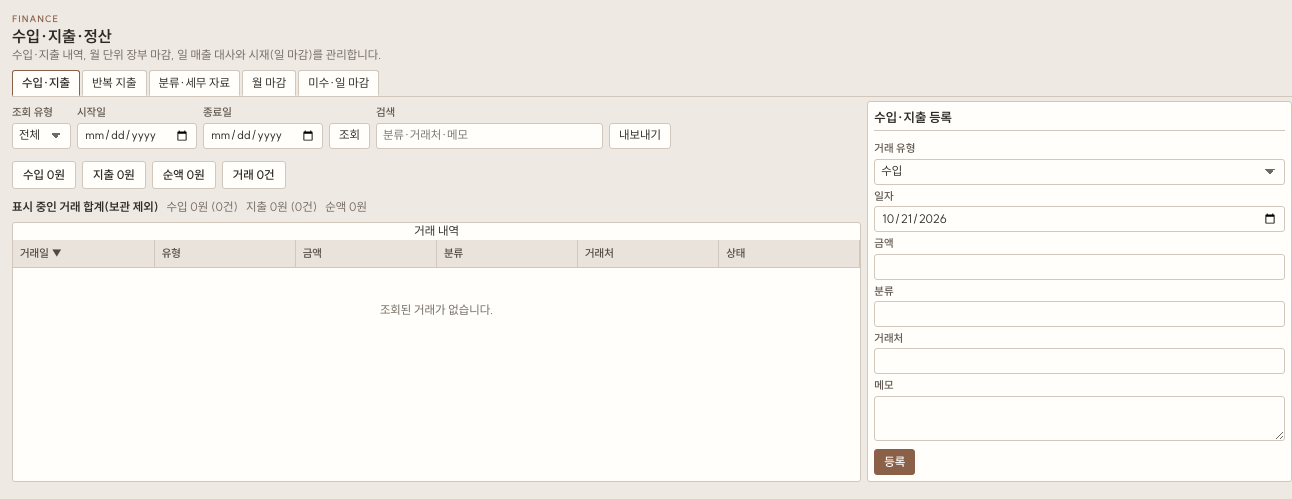
Test: TaxReportPanel 분류·세무 자료(FIN-11) › 거래가 없으면 안내하고 내보내기가 꺼진다
The width and height of the screenshot is (1292, 499).
Click the tab "분류·세무 자료": (194, 83) [149,70,240,96]
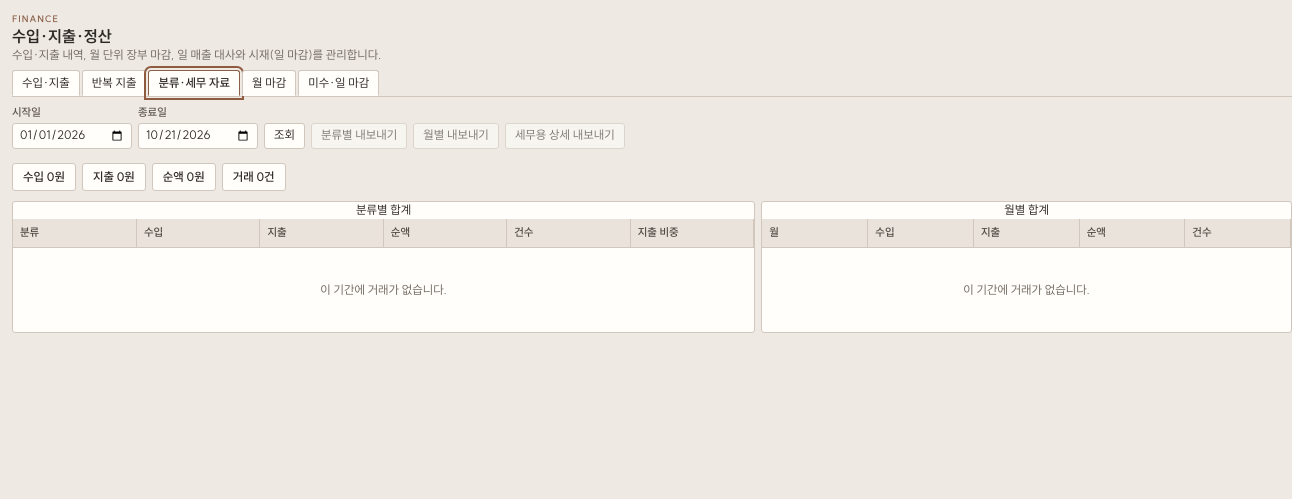
Expected: the text "이 기간에 거래가 없습니다." is shown 2 times, [320,282,447,297]; [963,282,1090,297]
Expected: the button "분류별 내보내기" is disabled, [311,123,407,149]
Expected: the button "월별 내보내기" is disabled, [413,123,499,149]
